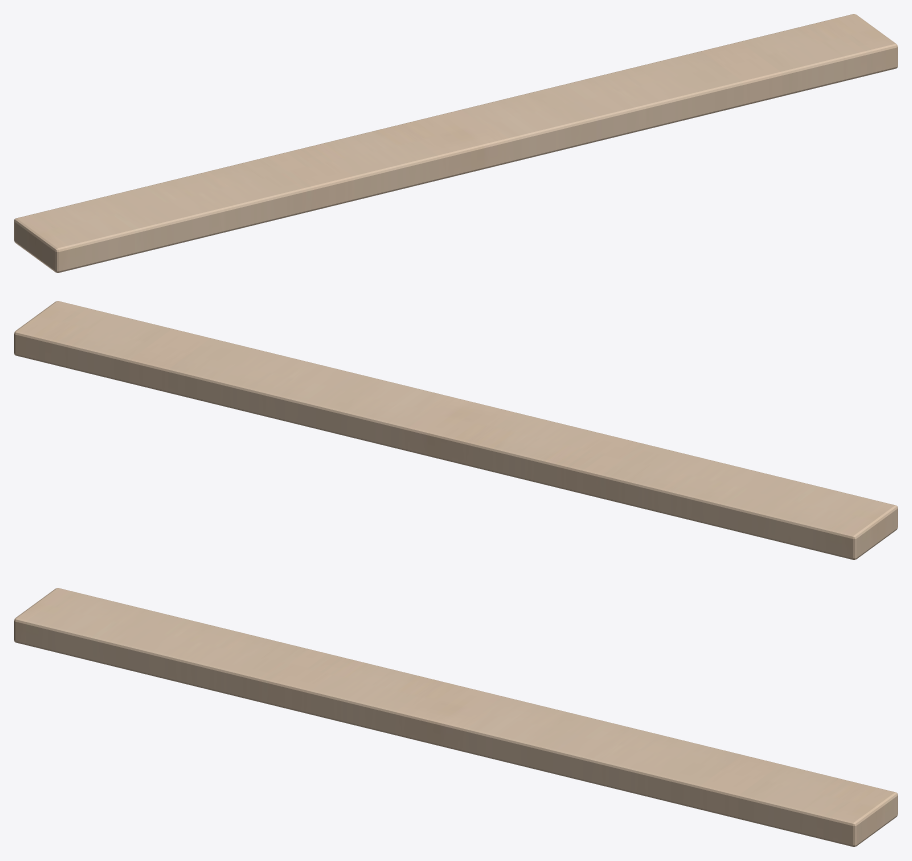
File: bench-slat-1.0.0.glb
3 renders of one model, top to bottom at view 1: azimuth 30°, elevation 25°; view 2: azimuth 150°, elevation 25°; view 3: azimuth 330°, elevation 25°, orthographic.
Visible parts, largest first — view 1: slat; view 2: slat; view 3: slat.
Boxes of the visible parts, bbox=[...] form: slat: bbox=[14, 14, 897, 272]; slat: bbox=[14, 301, 897, 559]; slat: bbox=[14, 588, 897, 846].
Bounding box in the file's own units: 1 × 0.028 × 0.09.
1 material, 1 textured.
